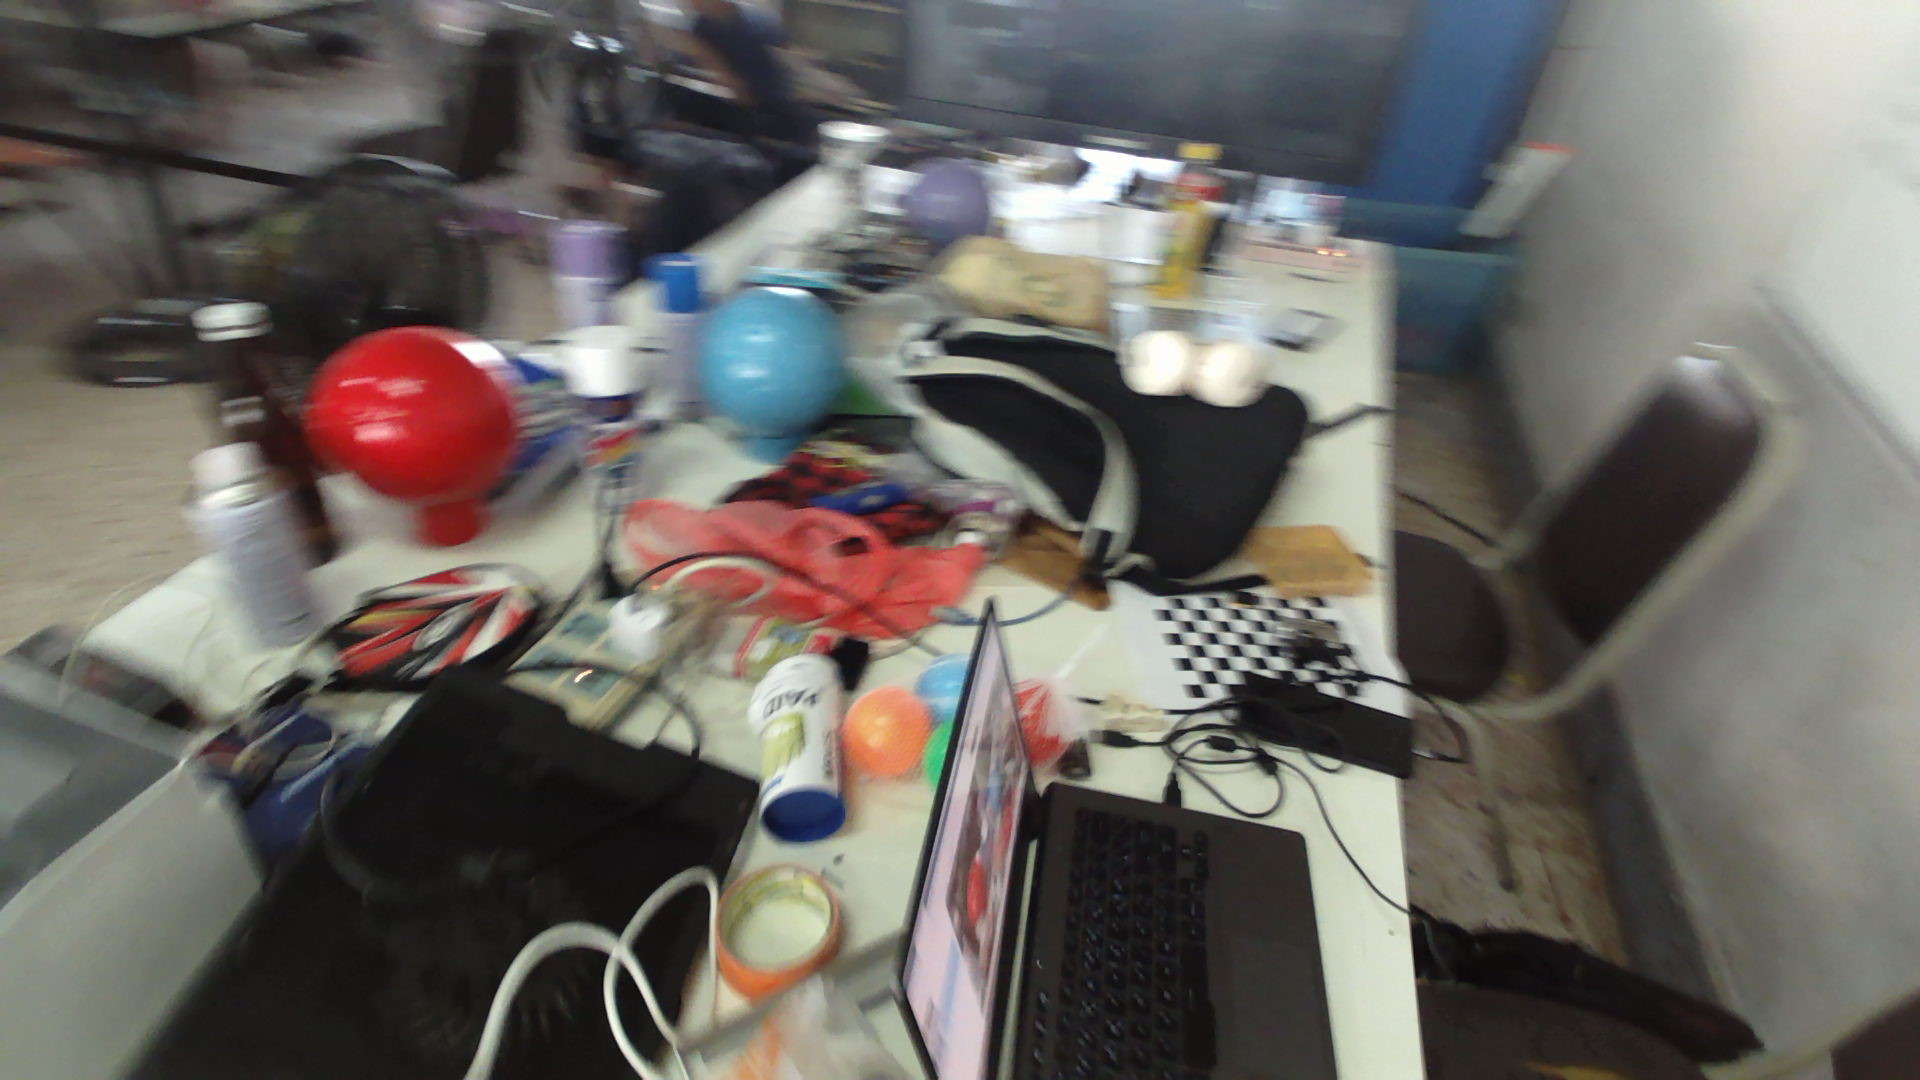Blue ball: (692, 282, 851, 433)
Purple ball: (890, 154, 1000, 255)
Red ball: (301, 320, 531, 509)
